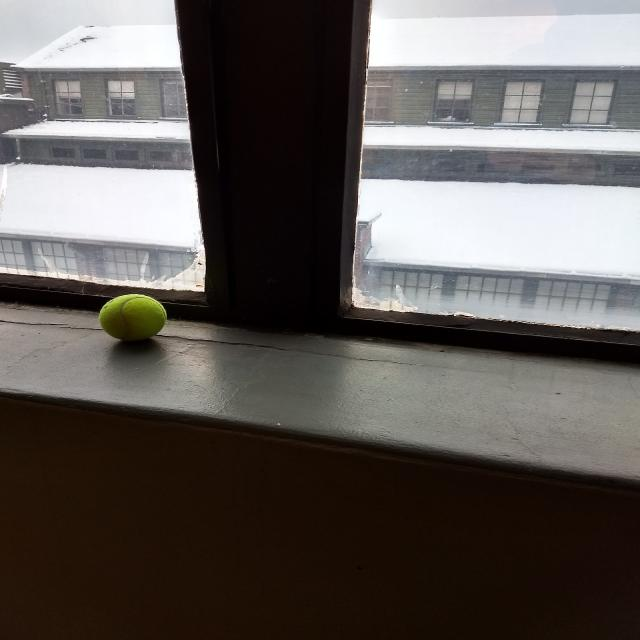Tennis-Ball: (101, 294, 166, 338)
